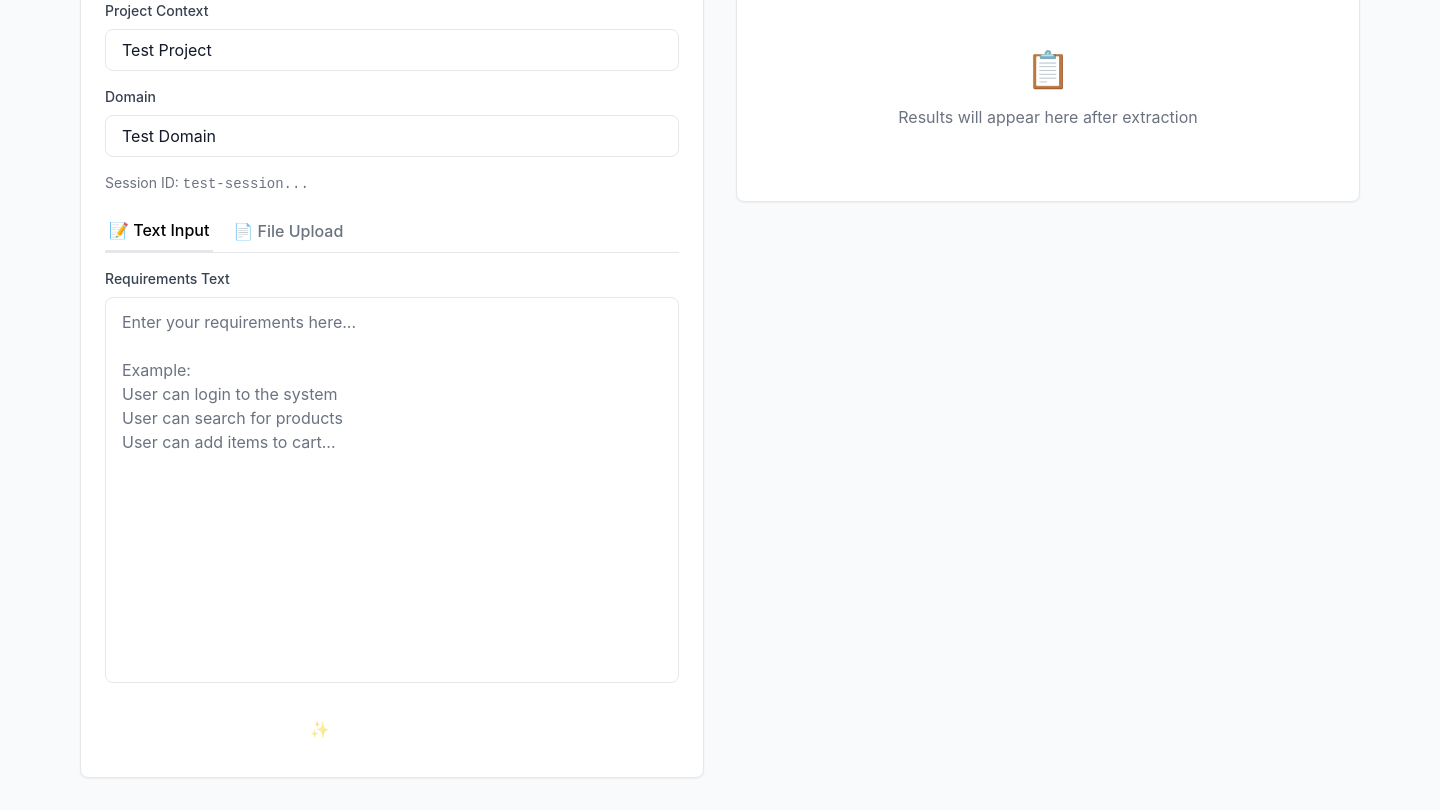
Test case: Extraction Component › Text Extraction › handles text extraction successfully
(page scrolled)
# Type requirements text
Type "Test requirements" into the text box labelled "Requirements Text" at (392, 490), box [105,297,679,683]
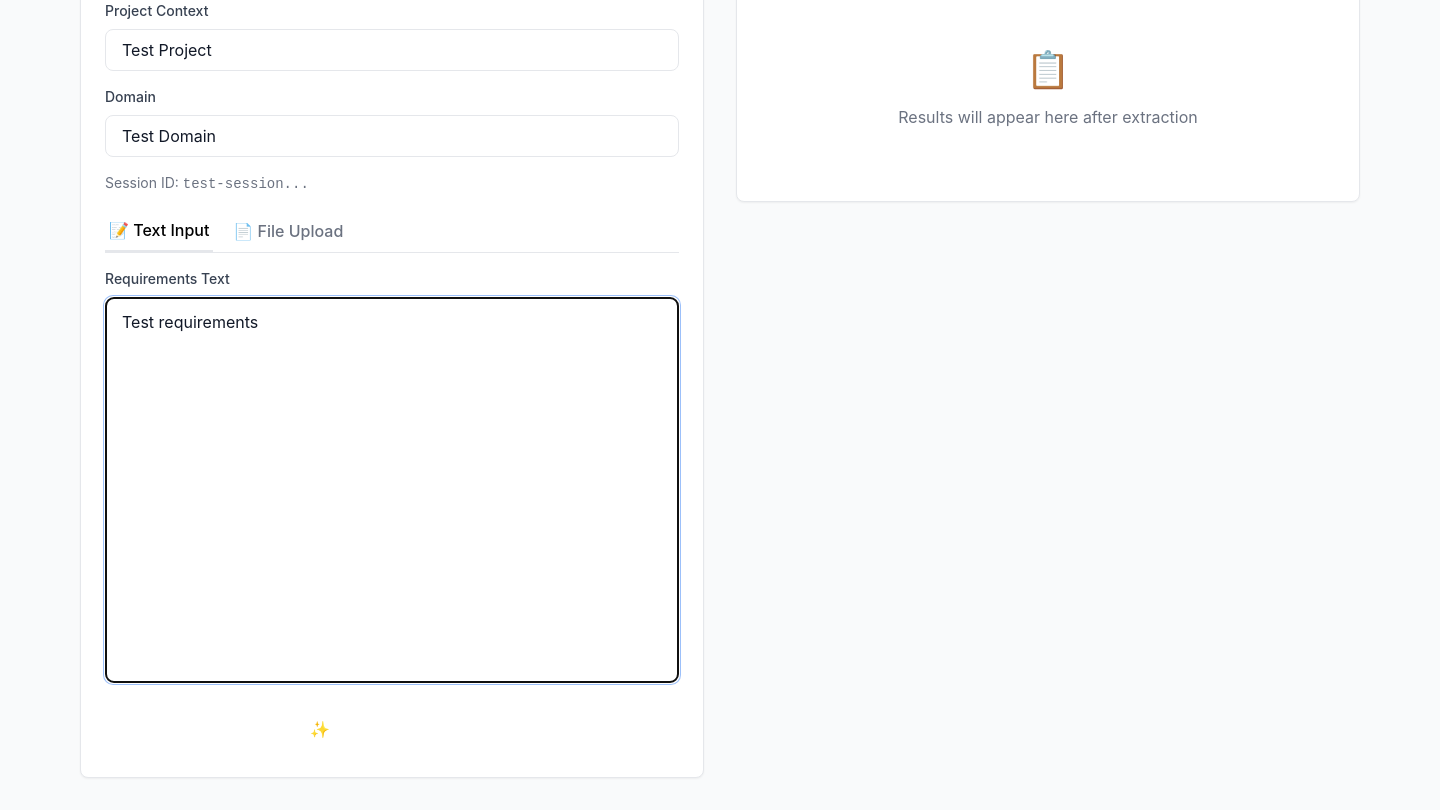
# Click extract button
Click the button "✨ Extract Use Cases" at (392, 729), box [105,705,679,753]
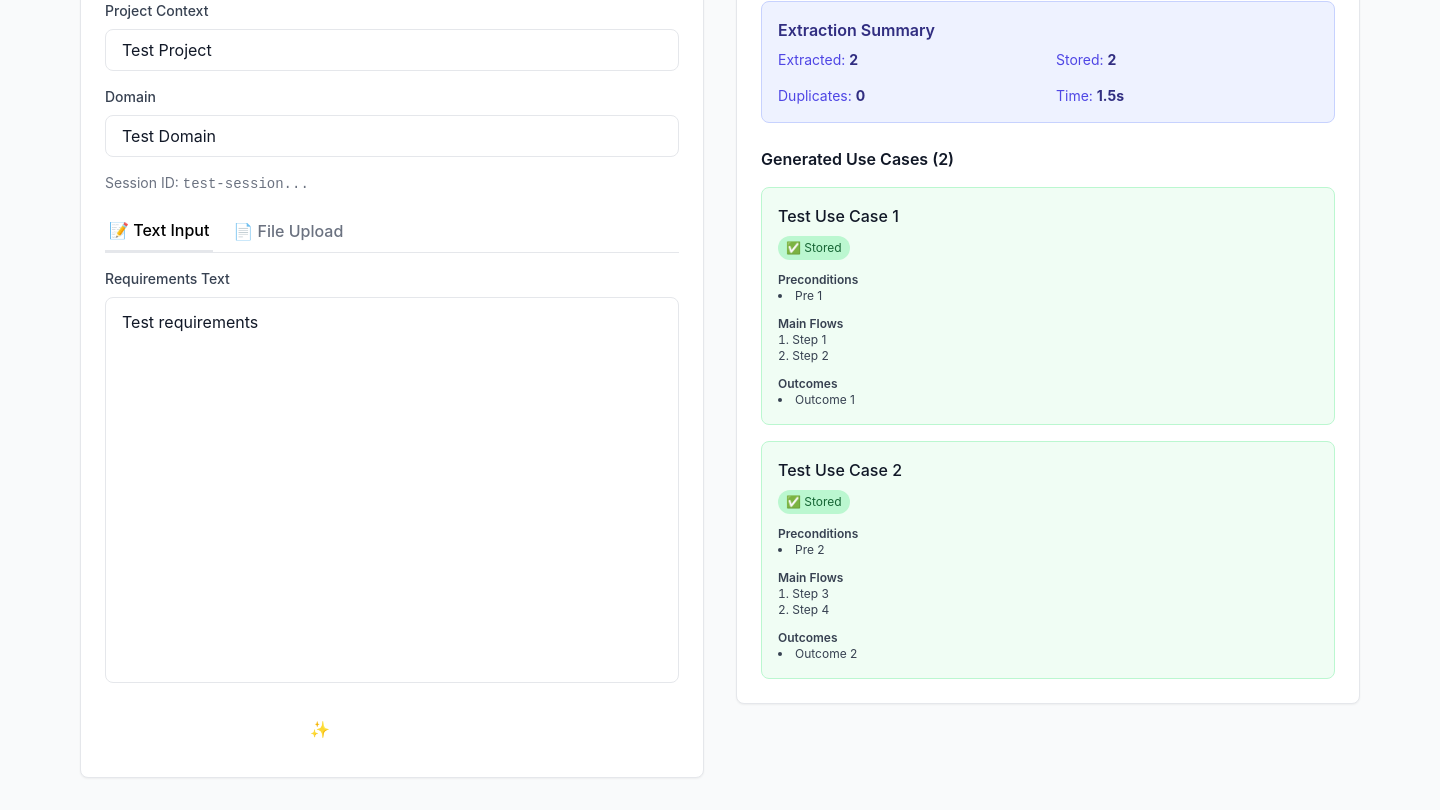
Now the heading "Extraction Summary" is shown, box [778,20,935,40]
Now the heading "Test Use Case 1" is shown, box [778,206,899,226]
Now the heading "Test Use Case 2" is shown, box [778,460,902,480]
